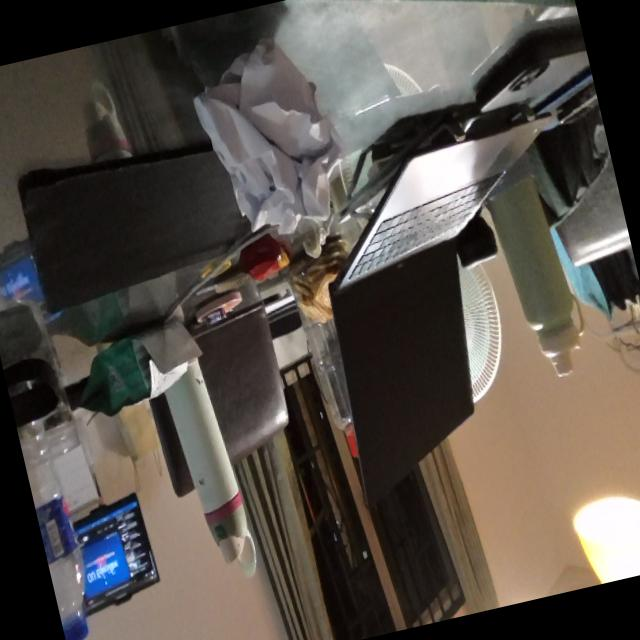crumpled_paper: (182, 19, 360, 244)
